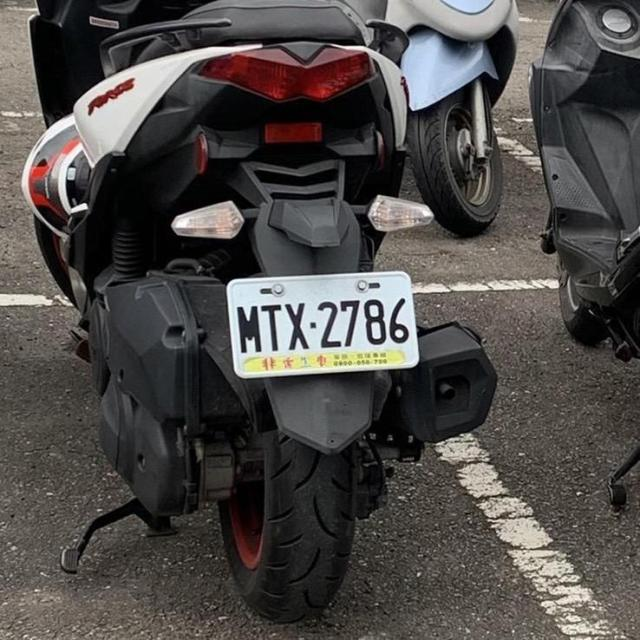W: (226, 269, 421, 380)
